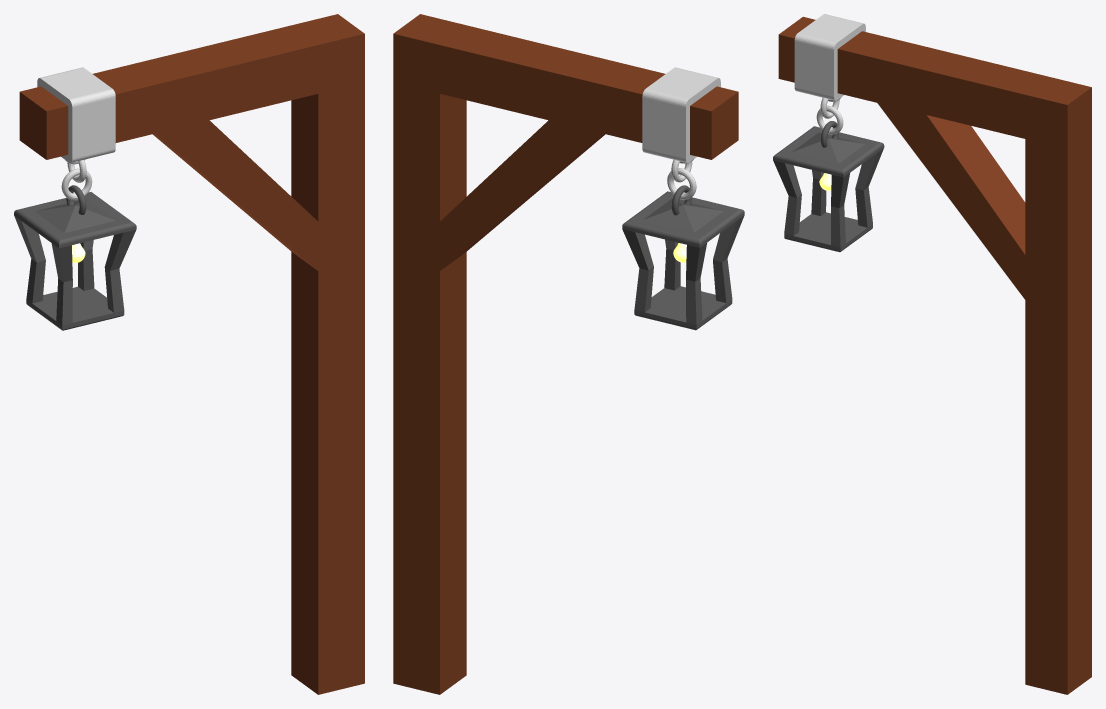
File: LowPolyLamp.fbx
The picture shows the model from 3 angles, left to right: view 1: azimuth 30°, elevation 25°; view 2: azimuth 150°, elevation 25°; view 3: azimuth 330°, elevation 25°; orthographic projection. The views are drawn at different scales.
Visible parts, largest first — view 1: Post, Lantern, Attach; view 2: Post, Lantern, Attach; view 3: Post, Lantern, Attach.
Boxes of the visible parts, box(x1,y1,x2,y2) form: Post: box(19, 14, 364, 694); Lantern: box(14, 185, 136, 330); Attach: box(37, 67, 115, 199); Post: box(393, 14, 738, 694); Lantern: box(622, 185, 744, 330); Attach: box(642, 67, 720, 199); Post: box(778, 16, 1091, 694); Lantern: box(773, 121, 884, 252); Attach: box(794, 14, 865, 134).
Size of the model in its own units: 4.1 by 8.09 by 1.
